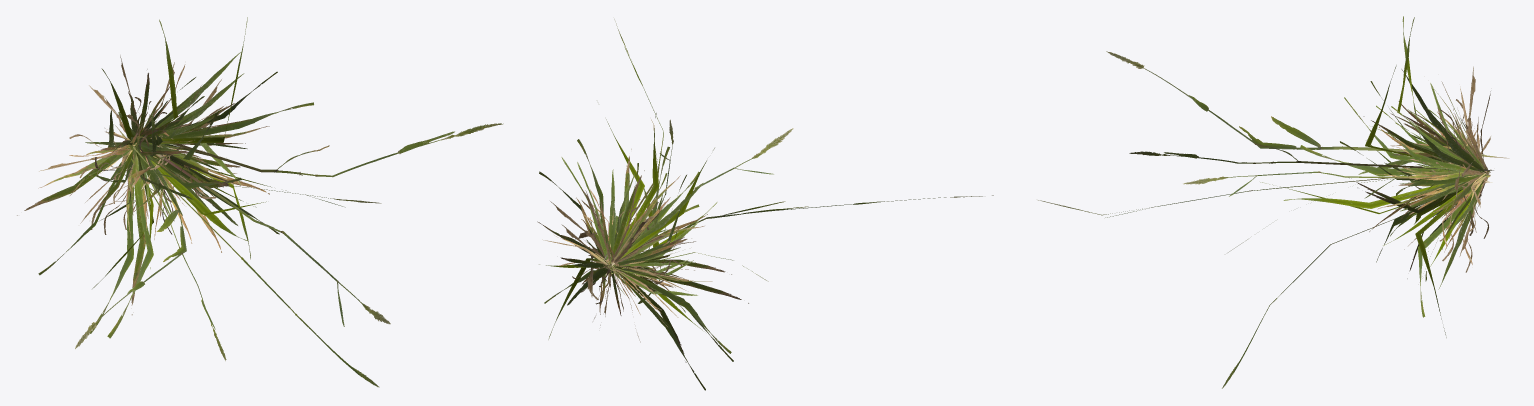
File: Tall_Grass_02_Var1_LOD2.fbx
3 views of the same model, side by side, from view 1: azimuth 30°, elevation 25°; view 2: azimuth 150°, elevation 25°; view 3: azimuth 270°, elevation 25° (orthographic). The views are drawn at different scales.
Parts seen in each view (by area): view 1: Var1_LOD2; view 2: Var1_LOD2; view 3: Var1_LOD2.
Boxes of the visible parts, x1,y1,x2,y2 form: Var1_LOD2: [17, 17, 503, 387]; Var1_LOD2: [537, 19, 993, 390]; Var1_LOD2: [1038, 16, 1509, 388].
Bounding box in the file's own units: 85.68 × 61.15 × 83.59.
